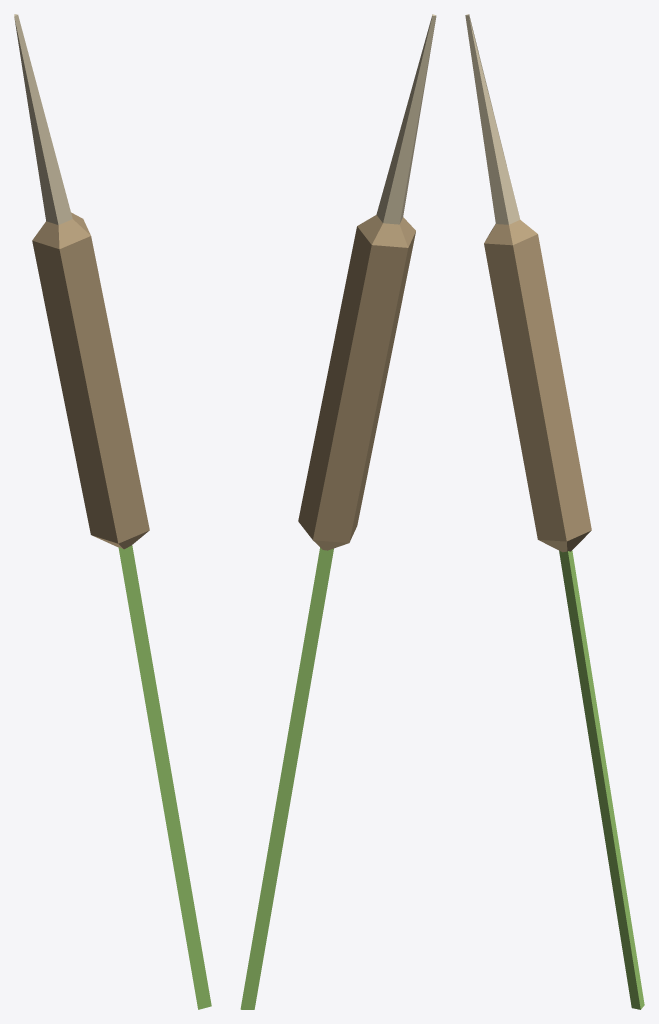
The model's file is Reed_b_01.fbx.
3 views of the same model, side by side, from view 1: azimuth 30°, elevation 25°; view 2: azimuth 150°, elevation 25°; view 3: azimuth 330°, elevation 25° (orthographic). The views are drawn at different scales.
Parts seen in each view (by area): view 1: Reed_b_01; view 2: Reed_b_01; view 3: Reed_b_01.
Part boxes in pixels (left/top/right/bottom): Reed_b_01: left=14, top=14, right=211, bottom=1009; Reed_b_01: left=240, top=14, right=436, bottom=1009; Reed_b_01: left=465, top=14, right=644, bottom=1009.
Size of the model in its own units: 21.38 by 109 by 5.43.
